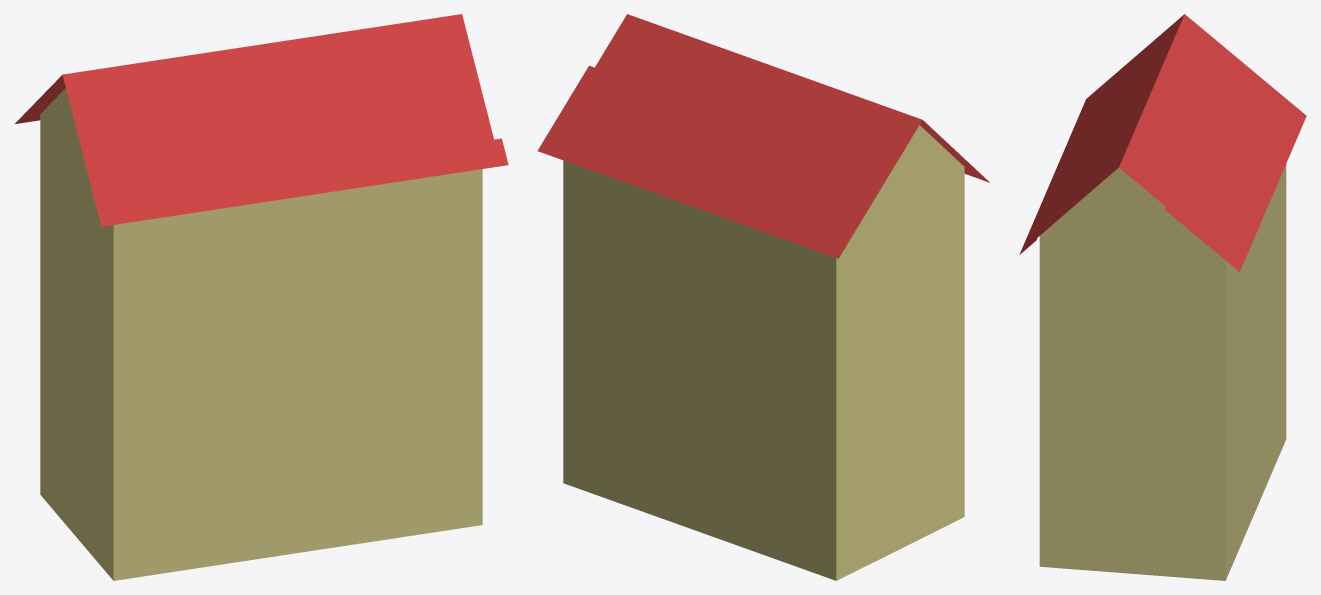
3 renders of one model, left to right at view 1: azimuth 30°, elevation 25°; view 2: azimuth 150°, elevation 25°; view 3: azimuth 270°, elevation 25°, orthographic. The views are drawn at different scales.
Size of the model in its own units: 11.68 by 8.19 by 12.88.
